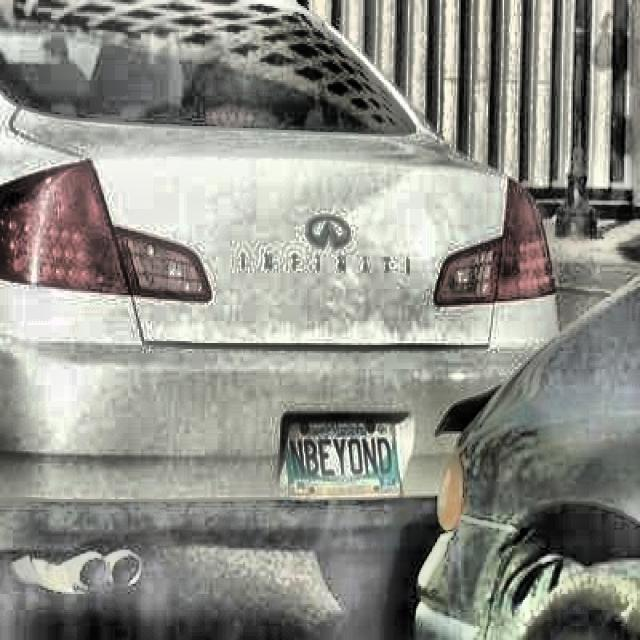license_plate: (284, 418, 397, 489)
